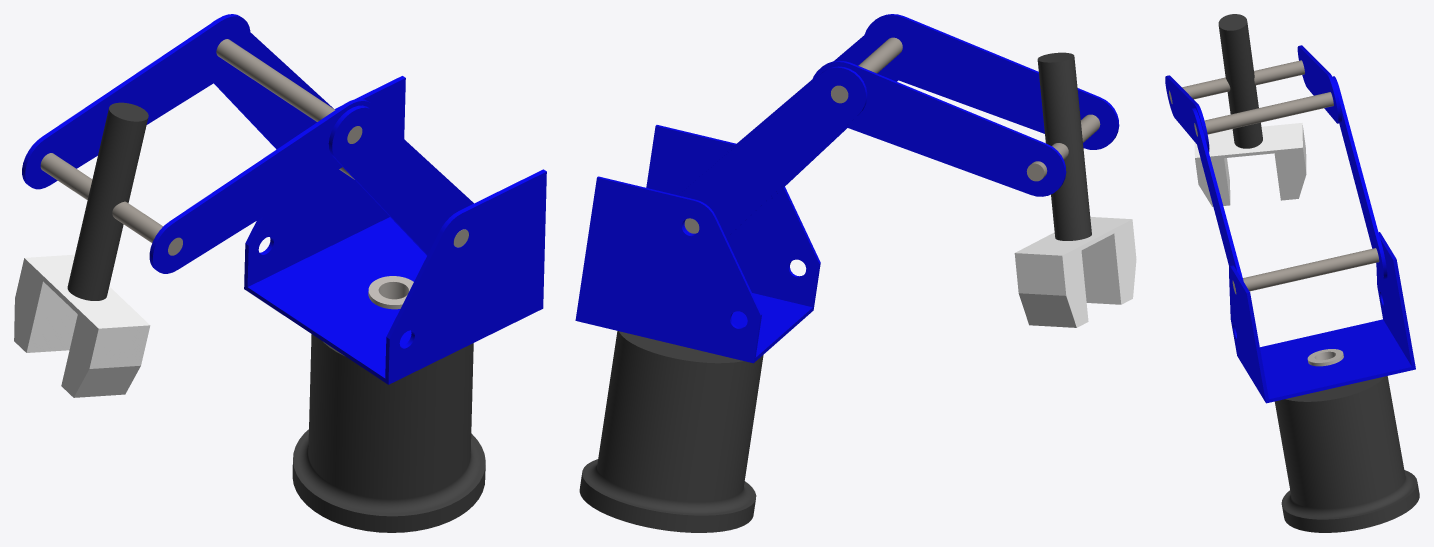
The picture shows the model from 3 angles, left to right: view 1: azimuth 30°, elevation 25°; view 2: azimuth 150°, elevation 25°; view 3: azimuth 270°, elevation 25°; orthographic projection. The views are drawn at different scales.
Parts seen in each view (by area): view 1: Body_1 (×11); view 2: Body_1 (×10); view 3: Body_1 (×12).
Part boxes in pixels (x1,y1,x2,y2): Body_1 (×11): (14,14,546,532); Body_1 (×10): (575,14,1136,532); Body_1 (×12): (1165,14,1419,532).
Size of the model in its own units: 0.5771 by 0.3513 by 0.5771.
